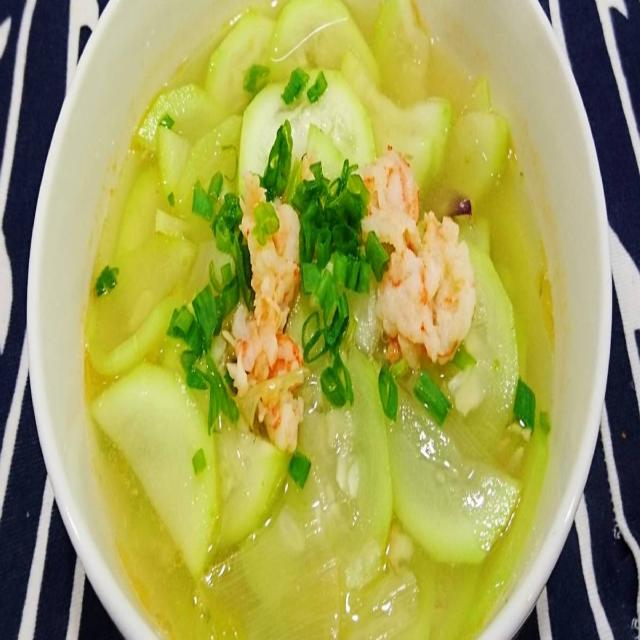canh bau: (83, 0, 556, 639)
